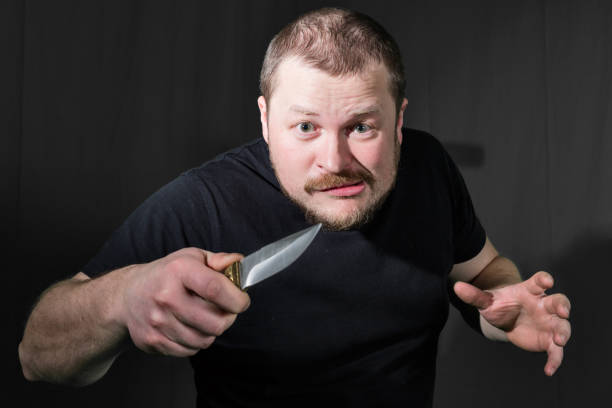knife: (235, 221, 325, 293)
